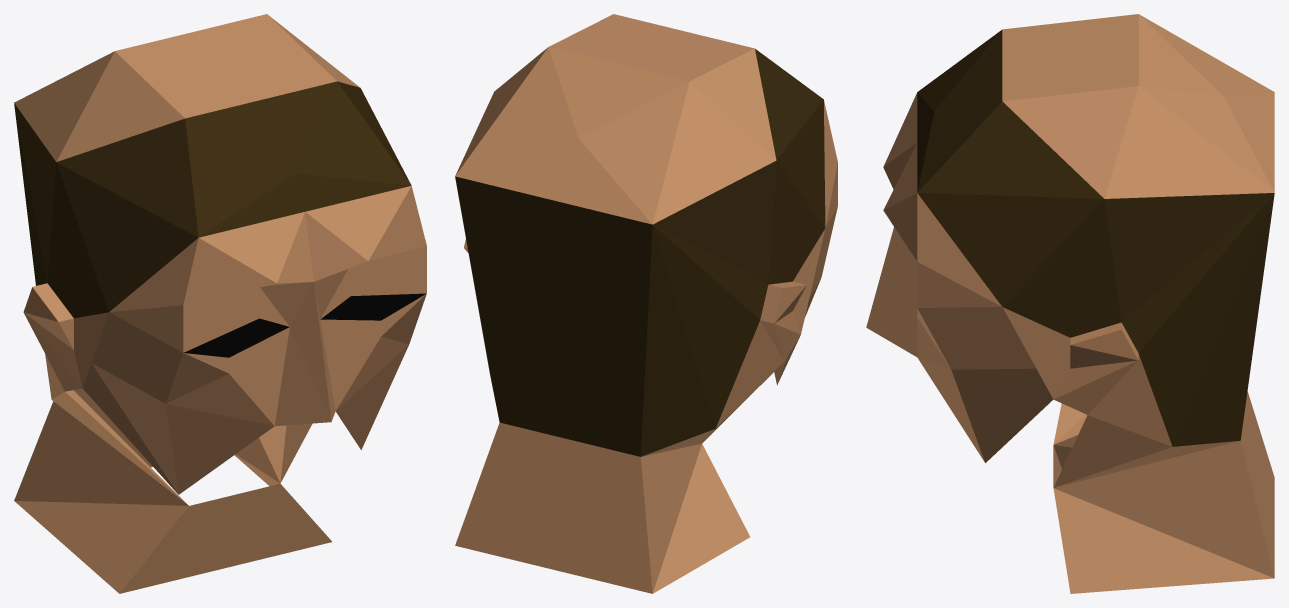
File: model_223_idk.obj
3 views of the same model, side by side, from view 1: azimuth 30°, elevation 25°; view 2: azimuth 150°, elevation 25°; view 3: azimuth 270°, elevation 25° (orthographic). The views are drawn at different scales.
Visible parts, largest first — view 1: 223; view 2: 223; view 3: 223.
Part boxes in pixels (left/top/right/bottom): 223: left=14, top=14, right=426, bottom=593; 223: left=455, top=14, right=837, bottom=593; 223: left=866, top=14, right=1274, bottom=593.
Size of the model in its own units: 22 by 32 by 24.
